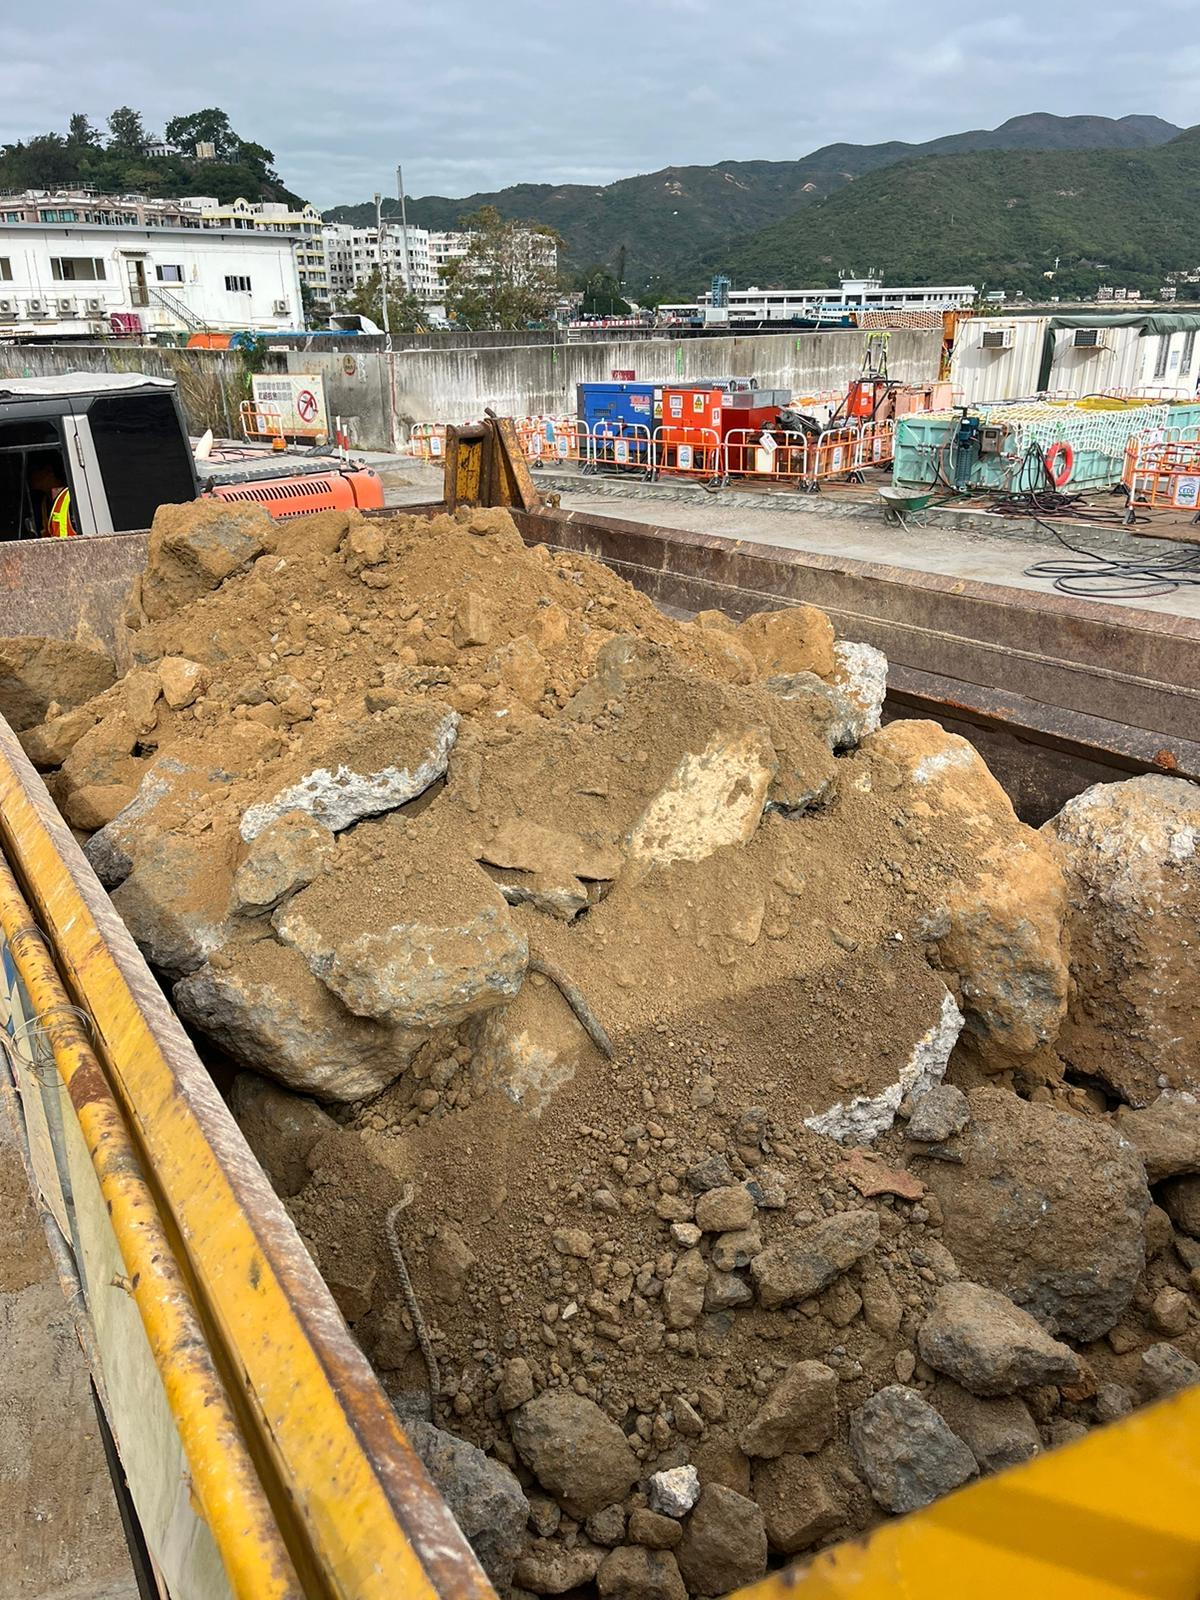dirt: (2, 494, 1197, 1596)
stone: (269, 832, 531, 1029), (915, 1278, 1081, 1397)
